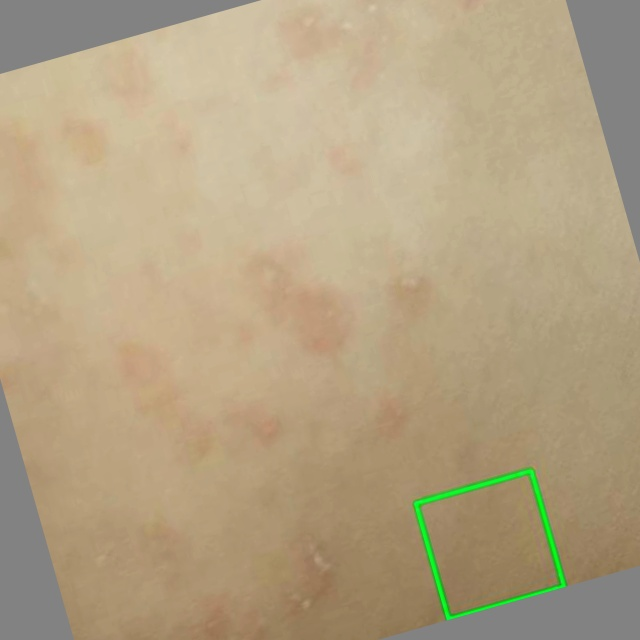Tinea Corporis: (415, 470, 564, 618)
